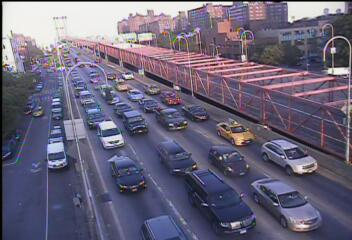neg: (22, 52, 36, 71), (30, 103, 41, 117), (1, 60, 9, 71)
